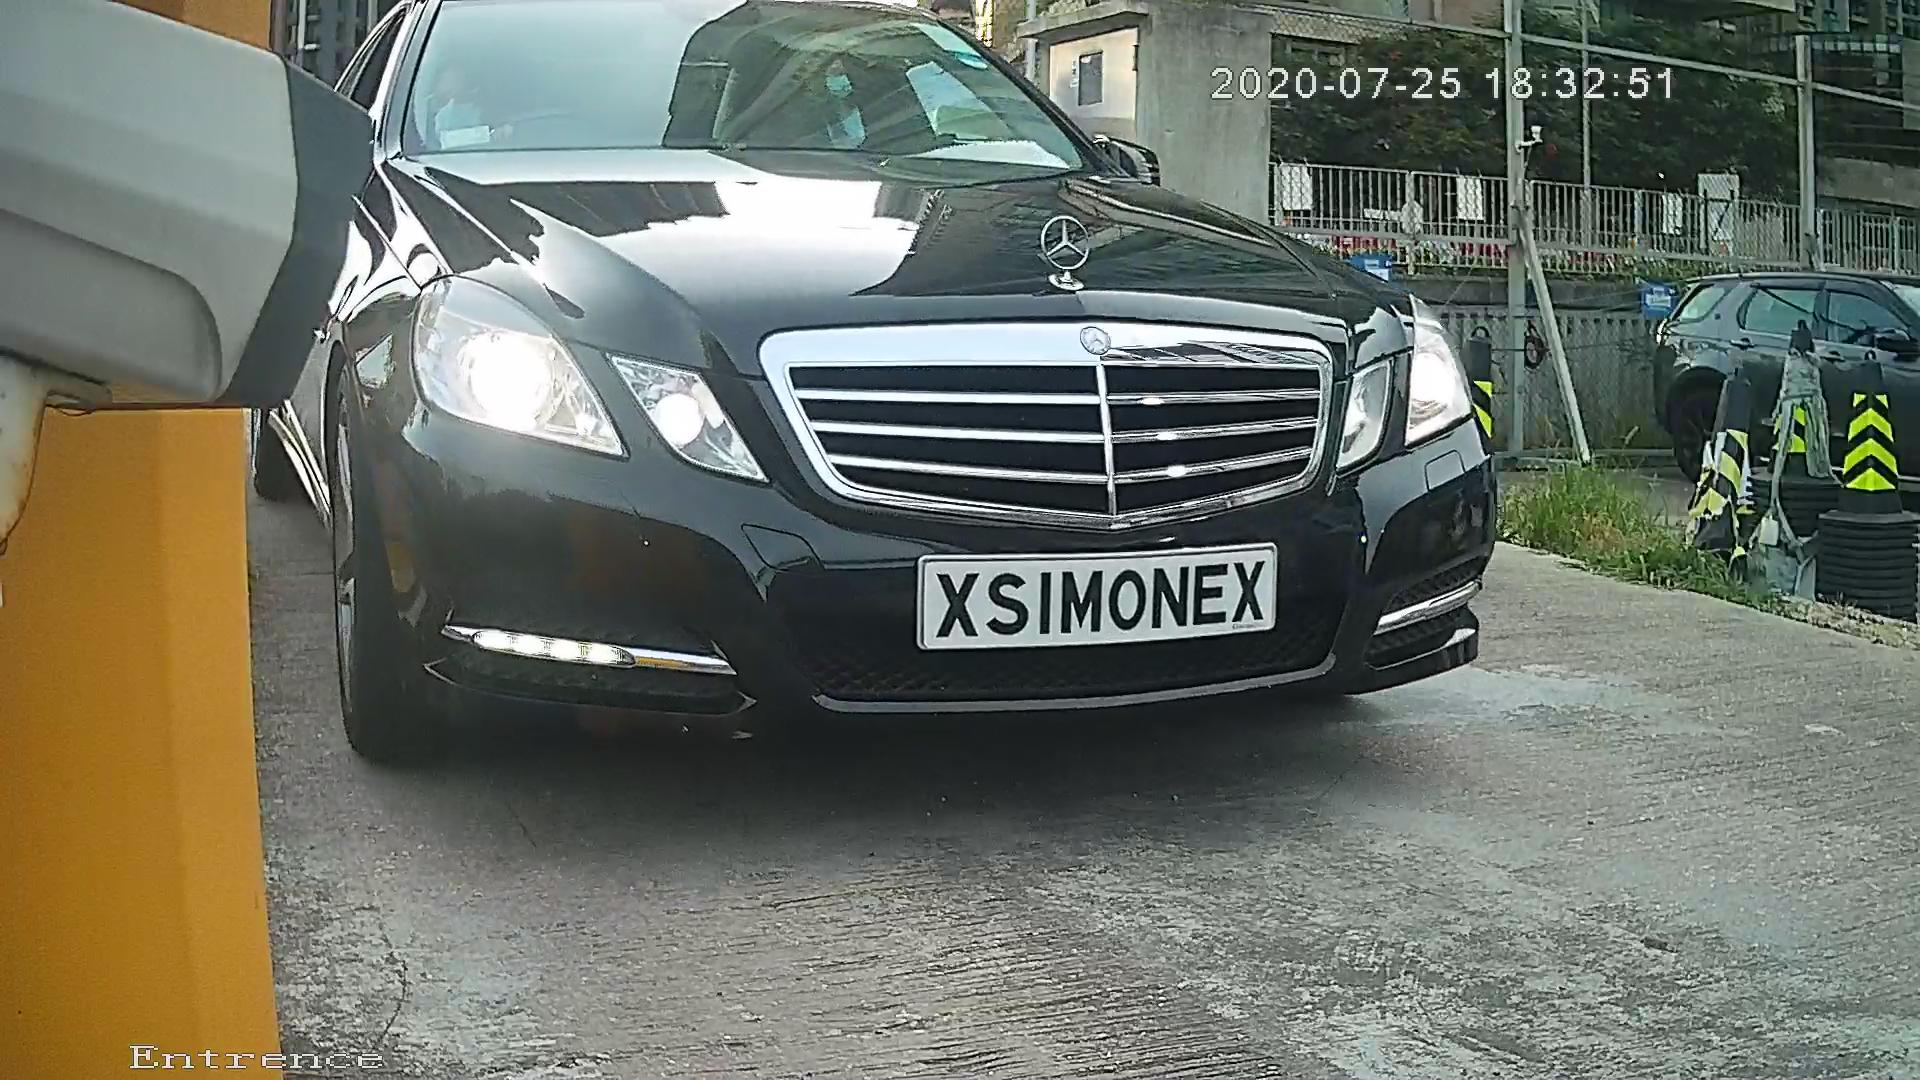License Plate: (909, 541, 1295, 661)
